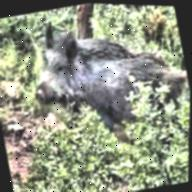boar: (23, 1, 192, 180)
